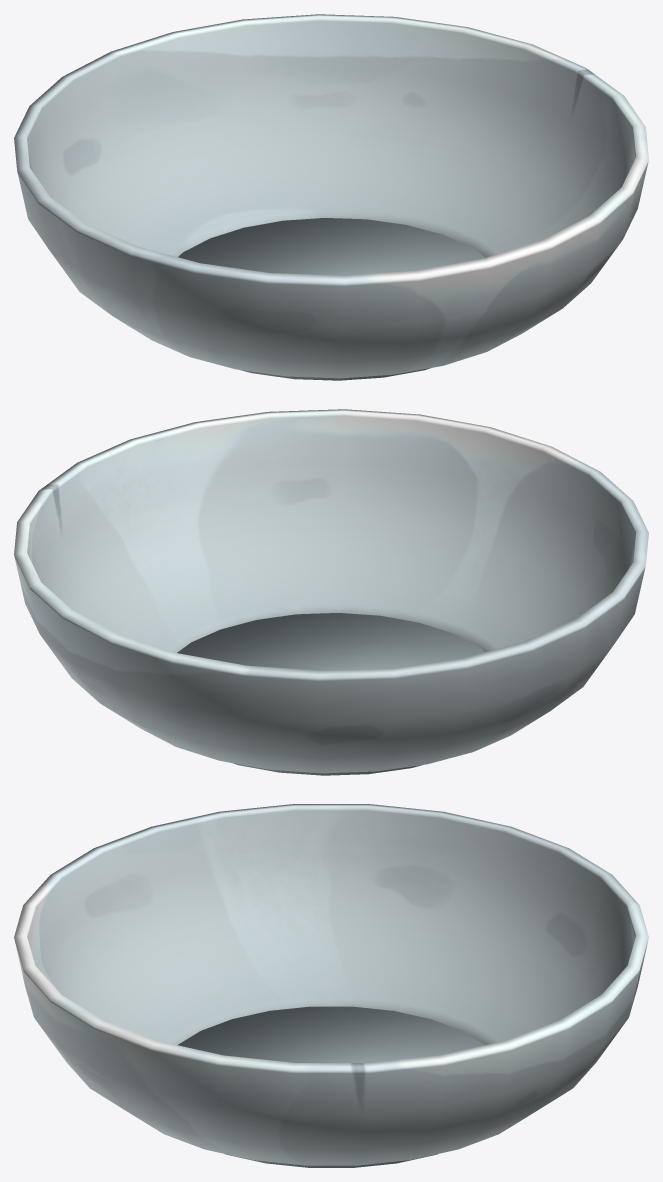
File: BowlMed.fbx
3 views of the same model, one above another, from view 1: azimuth 30°, elevation 25°; view 2: azimuth 150°, elevation 25°; view 3: azimuth 270°, elevation 25° (orthographic).
Parts seen in each view (by area): view 1: BowlMed; view 2: BowlMed; view 3: BowlMed.
Part boxes in pixels (left/top/right/bottom): BowlMed: left=14, top=14, right=648, bottom=380; BowlMed: left=14, top=409, right=648, bottom=775; BowlMed: left=14, top=804, right=648, bottom=1167.
Size of the model in its own units: 54.54 by 14.95 by 54.94.
